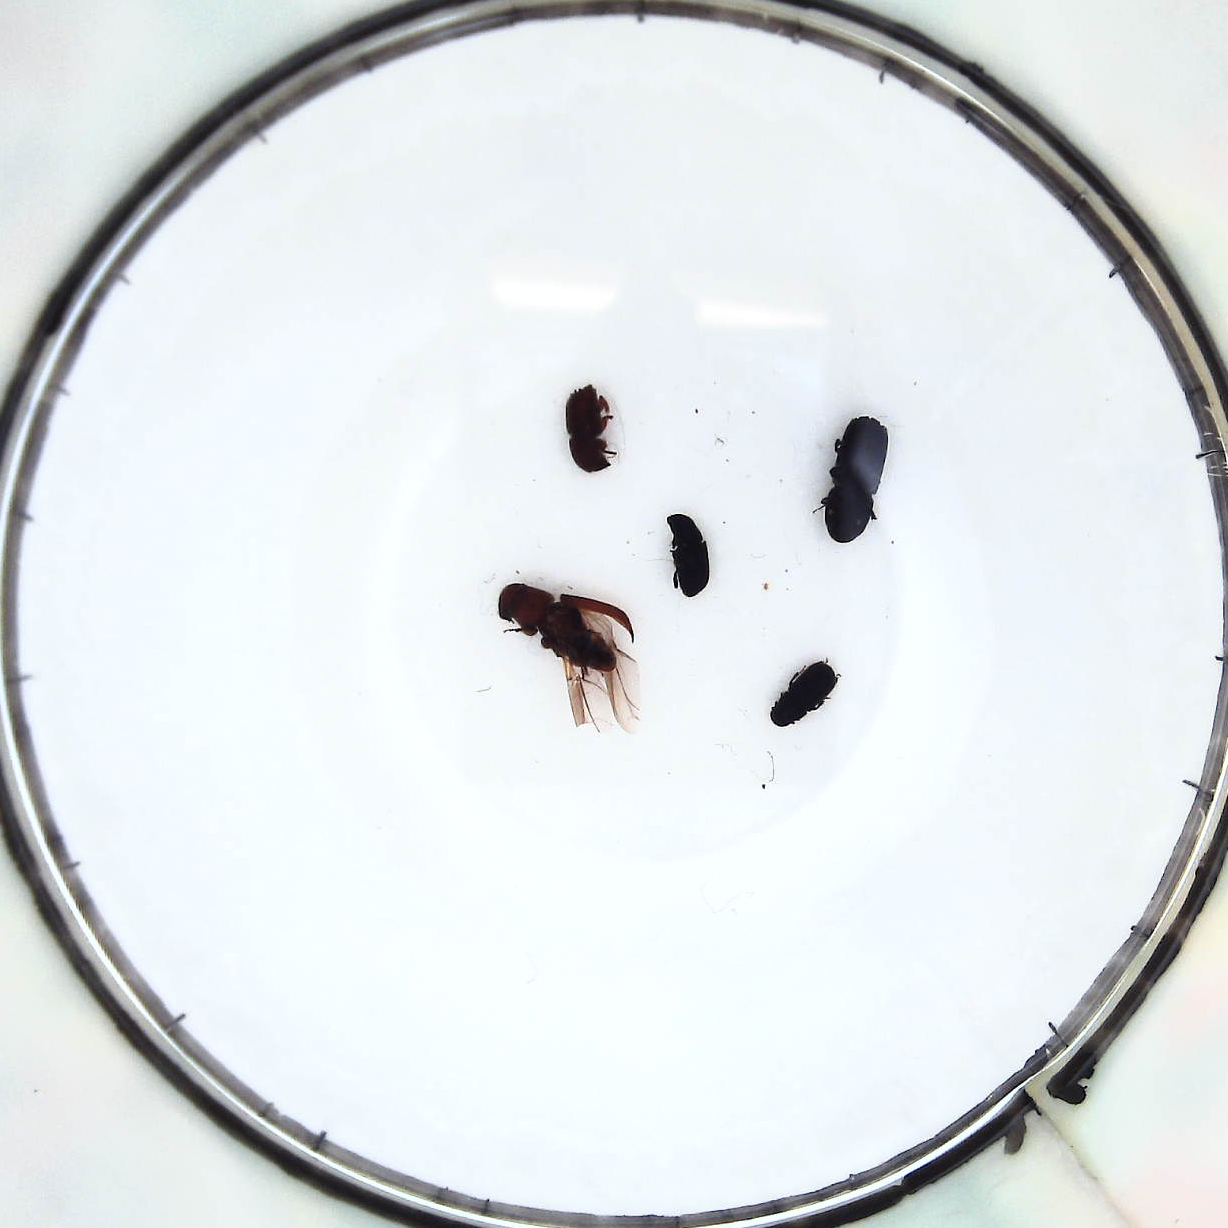Boerner: (821, 415, 887, 541)
Leconte: (497, 576, 631, 717)
Linnaeus: (567, 380, 616, 476)
armandi: (773, 654, 836, 729), (667, 512, 708, 598)
